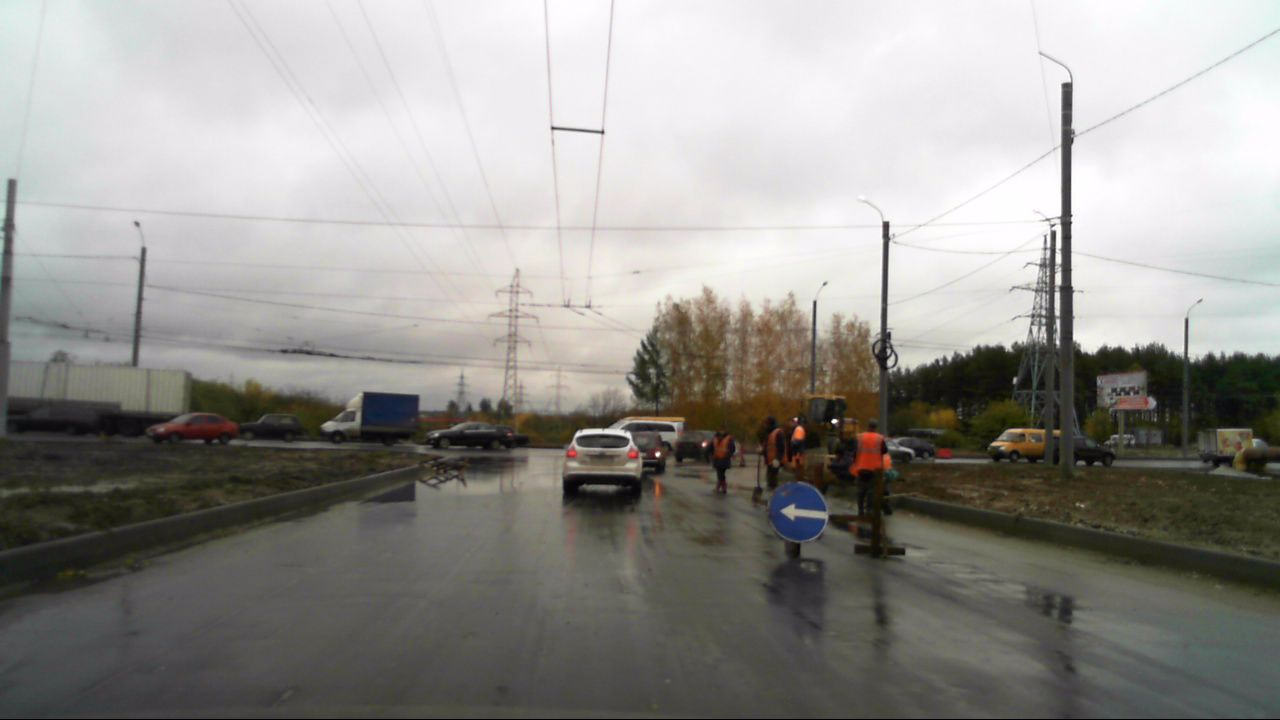Turn Left: (768, 481, 828, 544)
